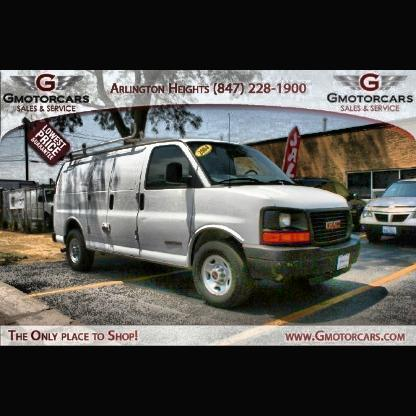GMC Savana Van 2012: (52, 136, 365, 308)
